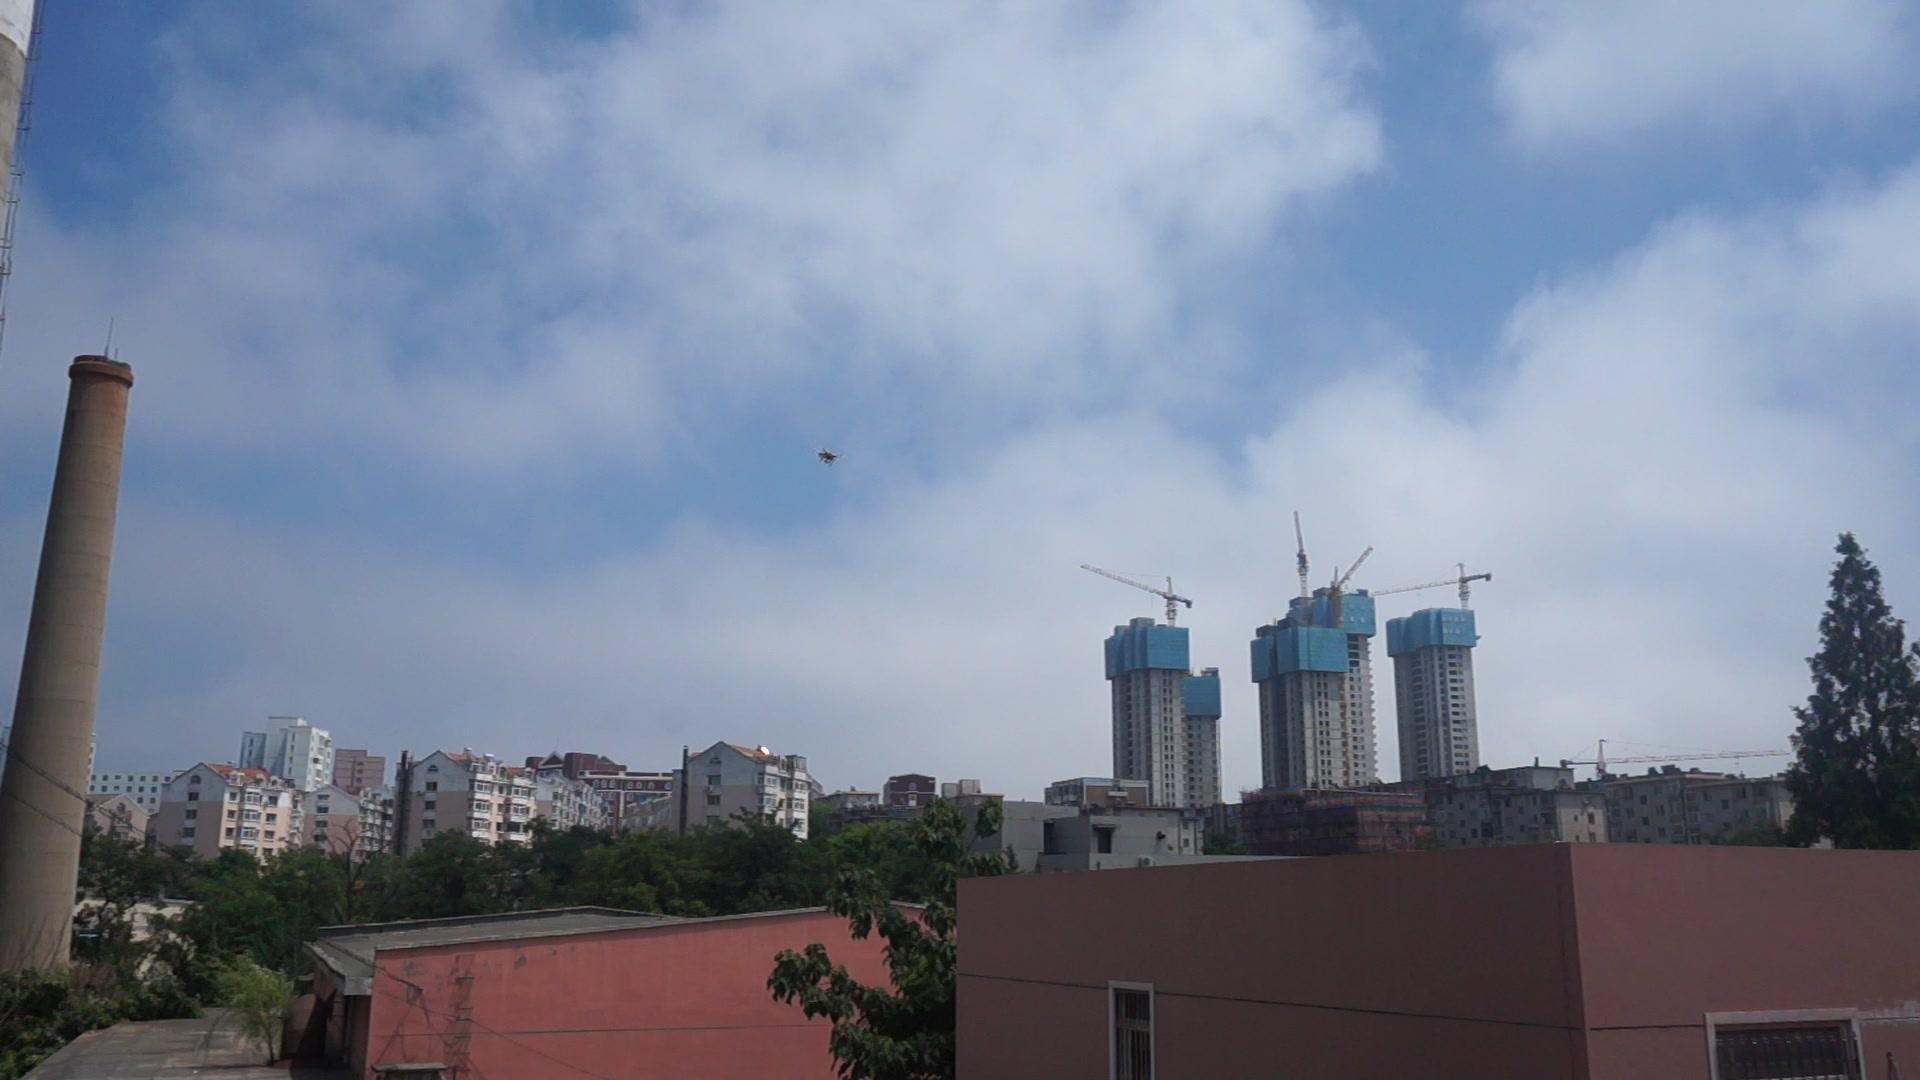UAV: (818, 448, 844, 468)
